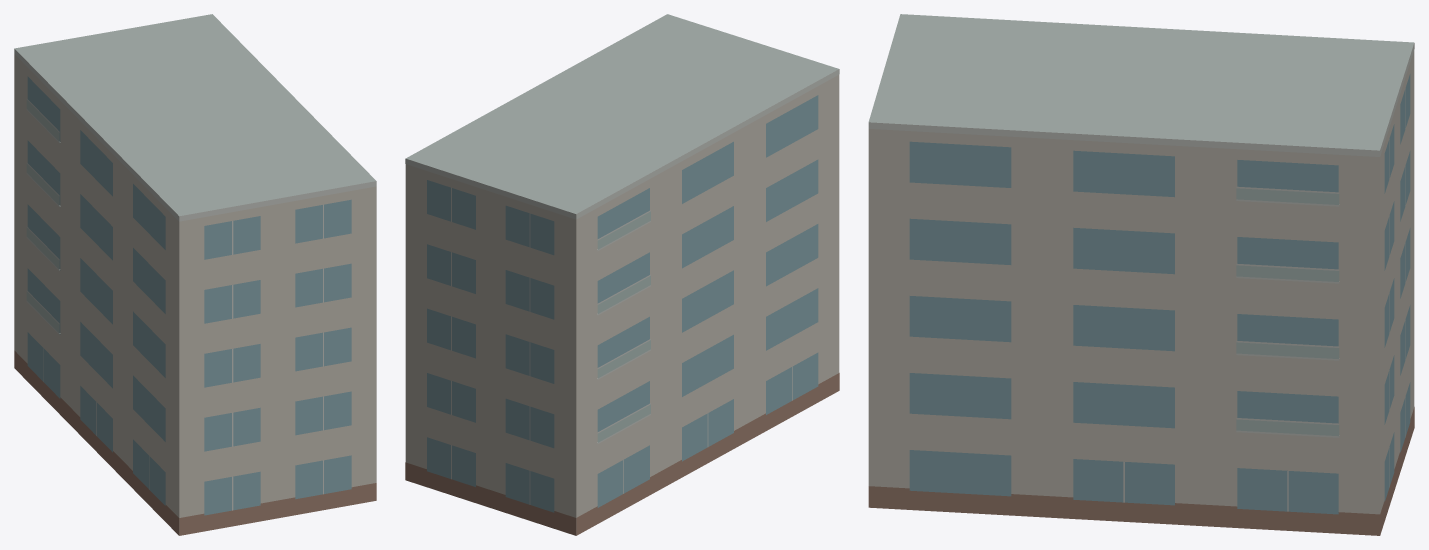
File: survey-upis-32532335.glb
3 renders of one model, left to right at view 1: azimuth 30°, elevation 25°; view 2: azimuth 150°, elevation 25°; view 3: azimuth 270°, elevation 25°, orthographic. The views are drawn at different scales.
Parts seen in each view (by area): view 1: survey-upis-32532335.tmp; view 2: survey-upis-32532335.tmp; view 3: survey-upis-32532335.tmp.
Boxes of the visible parts, box(x1,y1,x2,y2) form: survey-upis-32532335.tmp: box(14, 14, 376, 535); survey-upis-32532335.tmp: box(405, 14, 839, 535); survey-upis-32532335.tmp: box(868, 14, 1414, 535).
Bounding box in the file's own units: 11.03 × 14.5 × 18.63.
